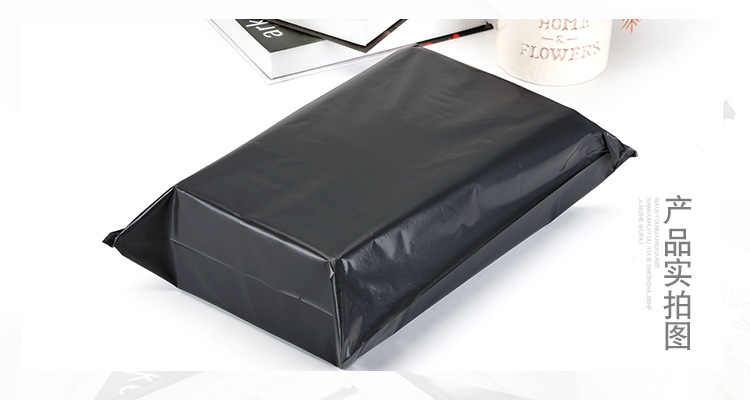Parcel: (103, 0, 639, 397)
